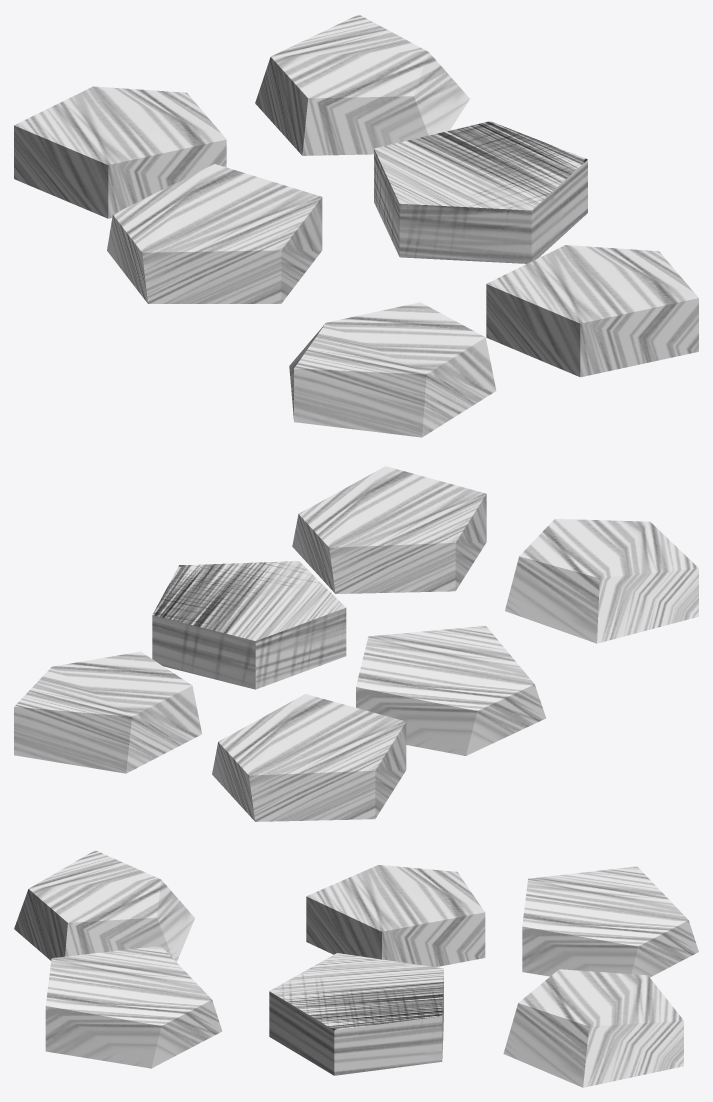
File: setOfStones.fbx
The picture shows the model from 3 angles, top to bottom: view 1: azimuth 30°, elevation 25°; view 2: azimuth 150°, elevation 25°; view 3: azimuth 270°, elevation 25°; orthographic projection. The views are drawn at different scales.
Parts seen in each view (by area): view 1: SetofStones; view 2: SetofStones; view 3: SetofStones.
Boxes of the visible parts, x1,y1,x2,y2 form: SetofStones: [14, 14, 698, 437]; SetofStones: [14, 466, 698, 821]; SetofStones: [14, 850, 698, 1087].
Bounding box in the file's own units: 472 × 52.31 × 712.
